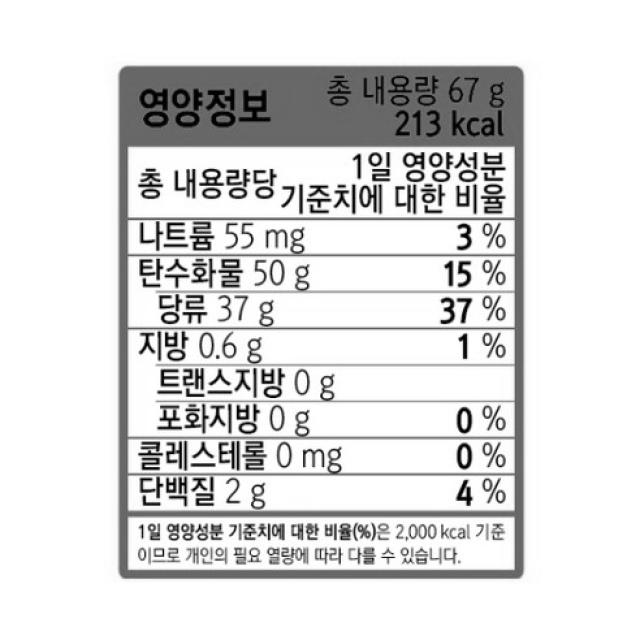Nutrition Label: (91, 41, 547, 589)
